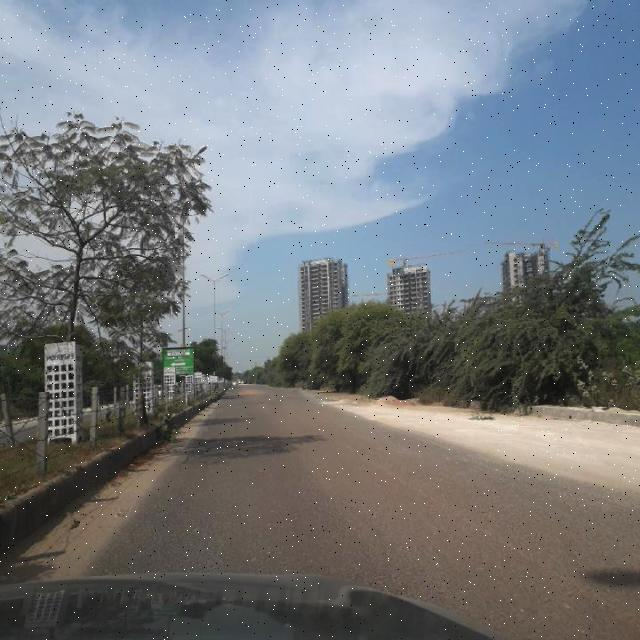D00: (344, 430, 595, 596)
D20: (93, 436, 640, 578)
